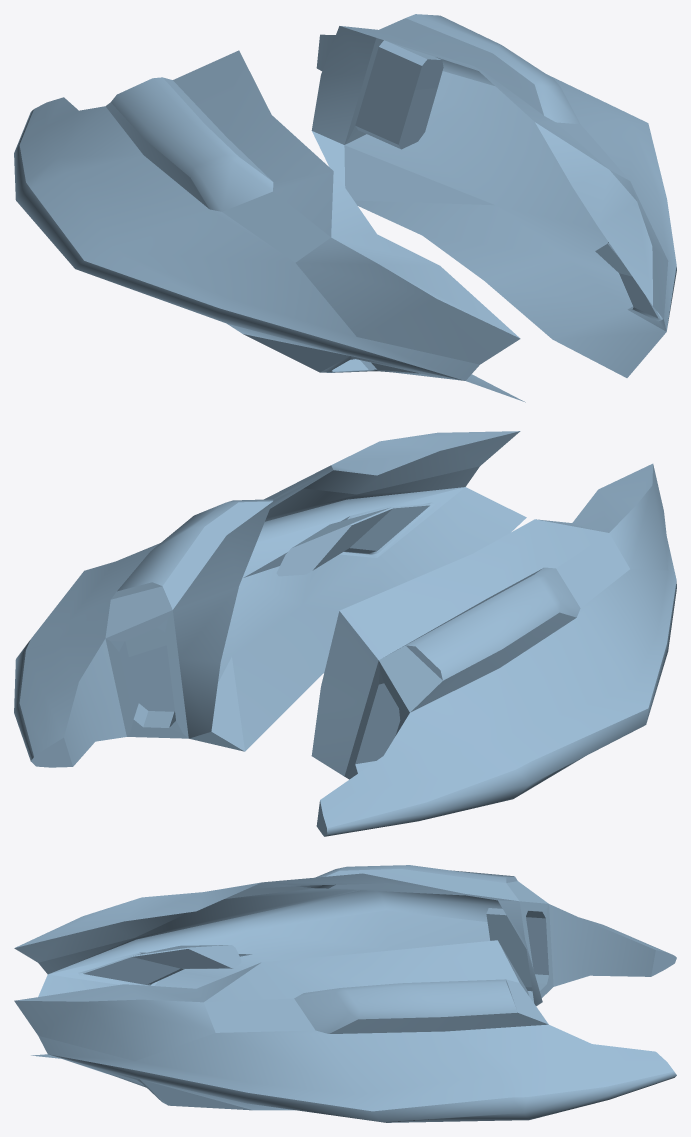
The model's file is satellite.FBX.
3 renders of one model, top to bottom at view 1: azimuth 30°, elevation 25°; view 2: azimuth 150°, elevation 25°; view 3: azimuth 270°, elevation 25°, orthographic. The views are drawn at different scales.
Parts seen in each view (by area): view 1: Object01; view 2: Object01; view 3: Object01.
Boxes of the visible parts, x1,y1,x2,y2 form: Object01: (14, 14, 676, 402); Object01: (14, 431, 676, 836); Object01: (14, 865, 676, 1122).
Size of the model in its own units: 0.161 by 0.1992 by 0.0481.
